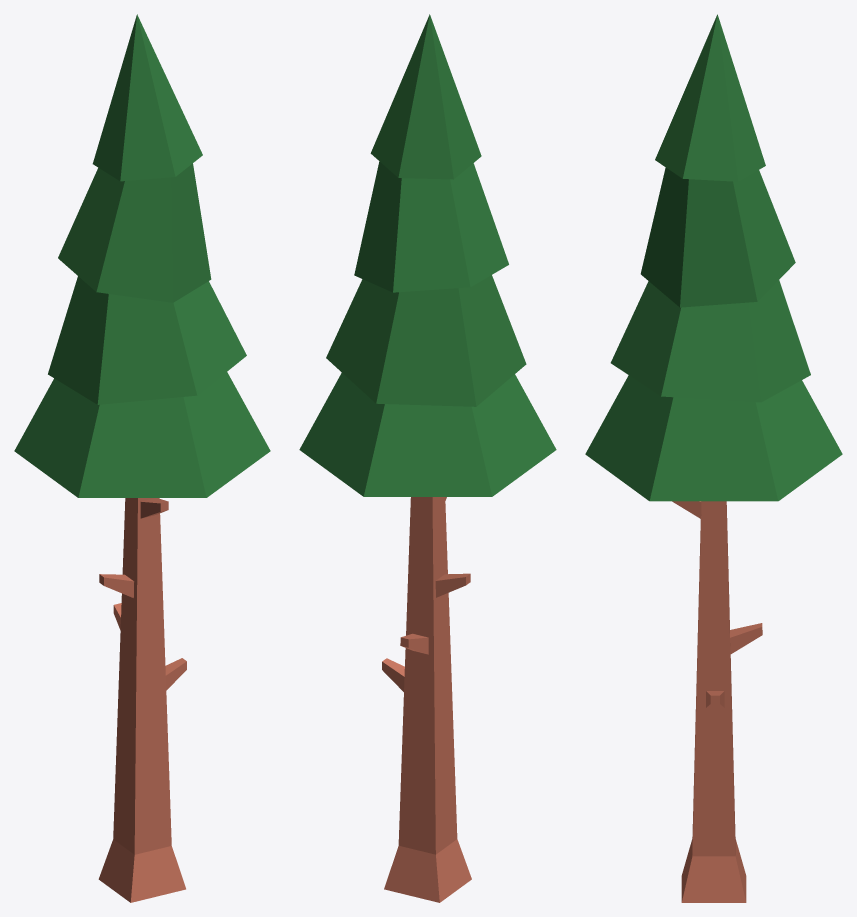
Rendered from tree_pineTallD_detailed.glb.
3 renders of one model, left to right at view 1: azimuth 30°, elevation 25°; view 2: azimuth 150°, elevation 25°; view 3: azimuth 270°, elevation 25°, orthographic.
Visible parts, largest first — view 1: tree_pineTallD_detailed; view 2: tree_pineTallD_detailed; view 3: tree_pineTallD_detailed.
Part boxes in pixels (bbox=[...]): tree_pineTallD_detailed: bbox=[14, 14, 270, 902]; tree_pineTallD_detailed: bbox=[299, 14, 556, 902]; tree_pineTallD_detailed: bbox=[585, 14, 842, 902].
Bounding box in the file's own units: 0.4804 × 2.08 × 0.5547.
